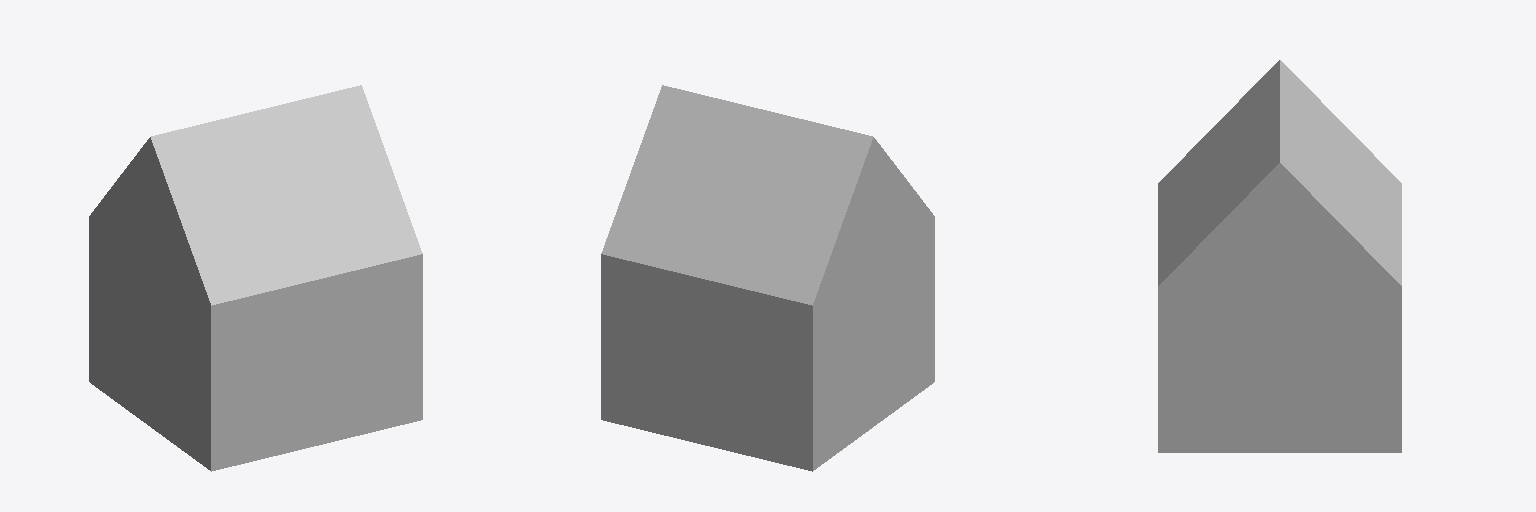
Rendered from house.obj.
3 renders of one model, left to right at view 1: azimuth 30°, elevation 25°; view 2: azimuth 150°, elevation 25°; view 3: azimuth 270°, elevation 25°, orthographic.
Parts seen in each view (by area): view 1: Cube, Cube.001; view 2: Cube, Cube.001; view 3: Cube, Cube.001.
Boxes of the visible parts, x1,y1,x2,y2 form: Cube: [89, 217, 422, 471]; Cube.001: [89, 85, 422, 305]; Cube: [601, 217, 934, 471]; Cube.001: [601, 85, 934, 305]; Cube: [1158, 287, 1401, 452]; Cube.001: [1158, 60, 1401, 286].
Bounding box in the file's own units: 2 × 2.62 × 2.